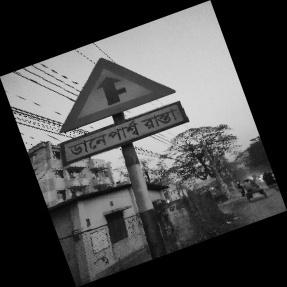Side-road-right: (60, 57, 185, 174)
